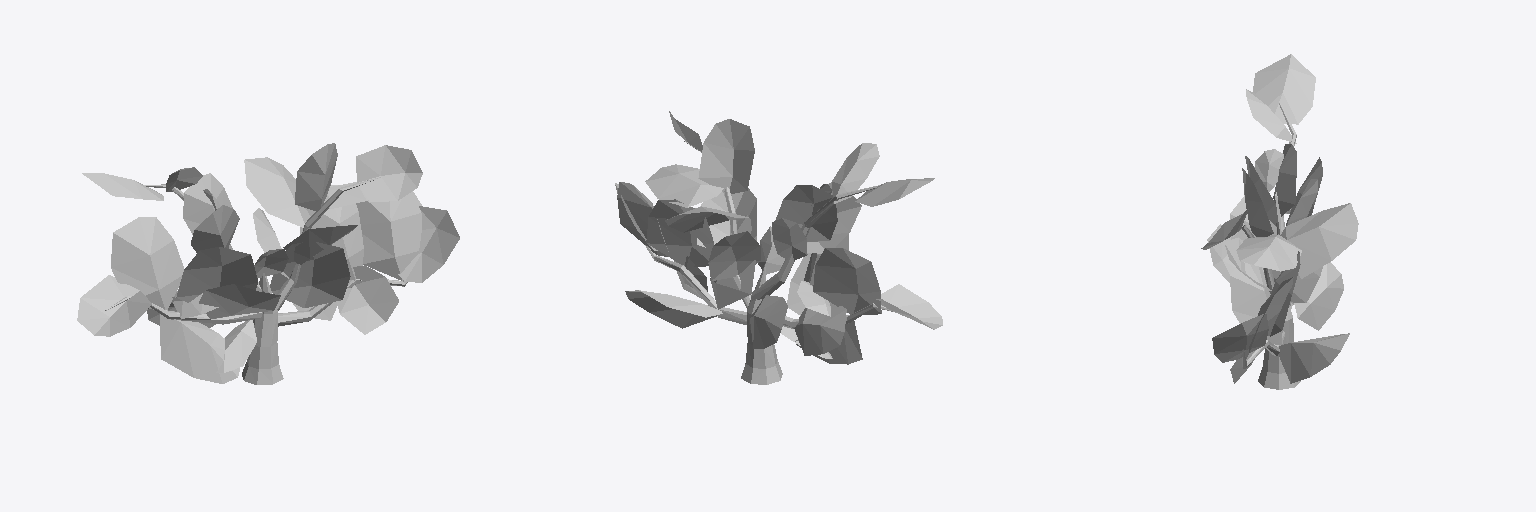
File: tree_wall.obj
3 views of the same model, side by side, from view 1: azimuth 30°, elevation 25°; view 2: azimuth 150°, elevation 25°; view 3: azimuth 270°, elevation 25° (orthographic).
Size of the model in its own units: 3.57 by 2.41 by 1.41.